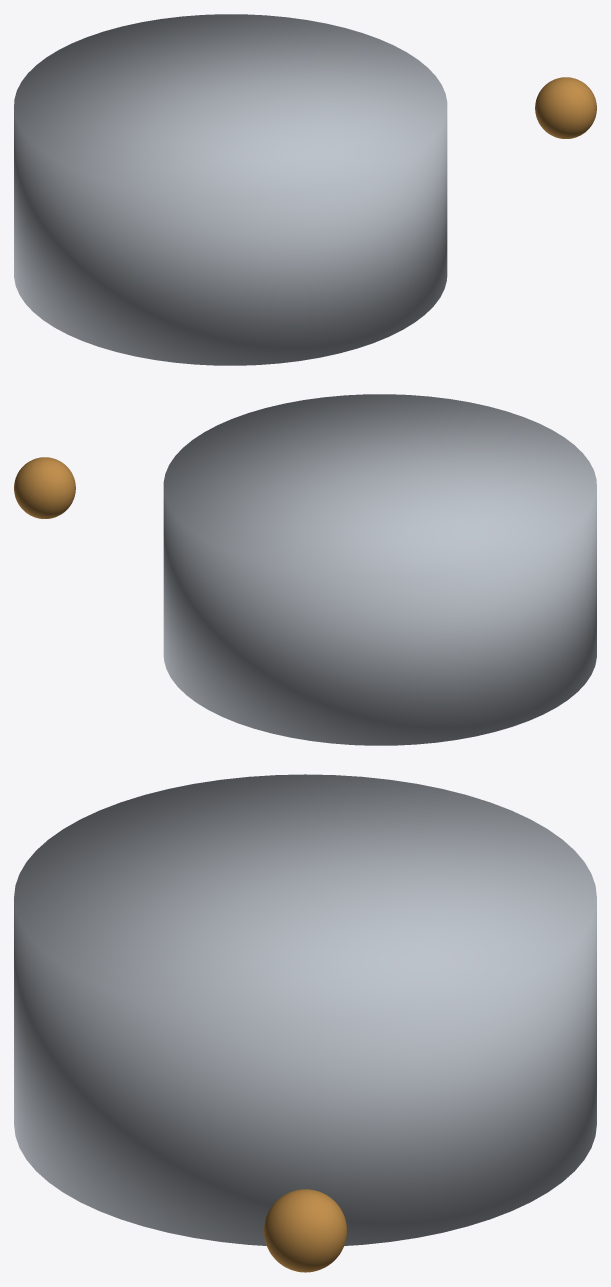
The model's file is solid-before.glb.
3 views of the same model, one above another, from view 1: azimuth 30°, elevation 25°; view 2: azimuth 150°, elevation 25°; view 3: azimuth 270°, elevation 25° (orthographic). The views are drawn at different scales.
Visible parts, largest first — view 1: bushing, preserved; view 2: bushing, preserved; view 3: bushing, preserved.
Boxes of the visible parts, x1,y1,x2,y2 form: bushing: [14, 14, 447, 365]; preserved: [535, 77, 596, 138]; bushing: [163, 394, 596, 745]; preserved: [14, 457, 75, 518]; bushing: [14, 774, 596, 1245]; preserved: [264, 1189, 346, 1272].
Size of the model in its own units: 0.041 by 0.012 by 0.028.
